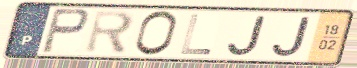J: (225, 14, 268, 58), (270, 16, 314, 59)
L: (179, 13, 214, 56)
O: (132, 9, 180, 58)
P: (39, 7, 91, 56)
R: (83, 9, 137, 56)
